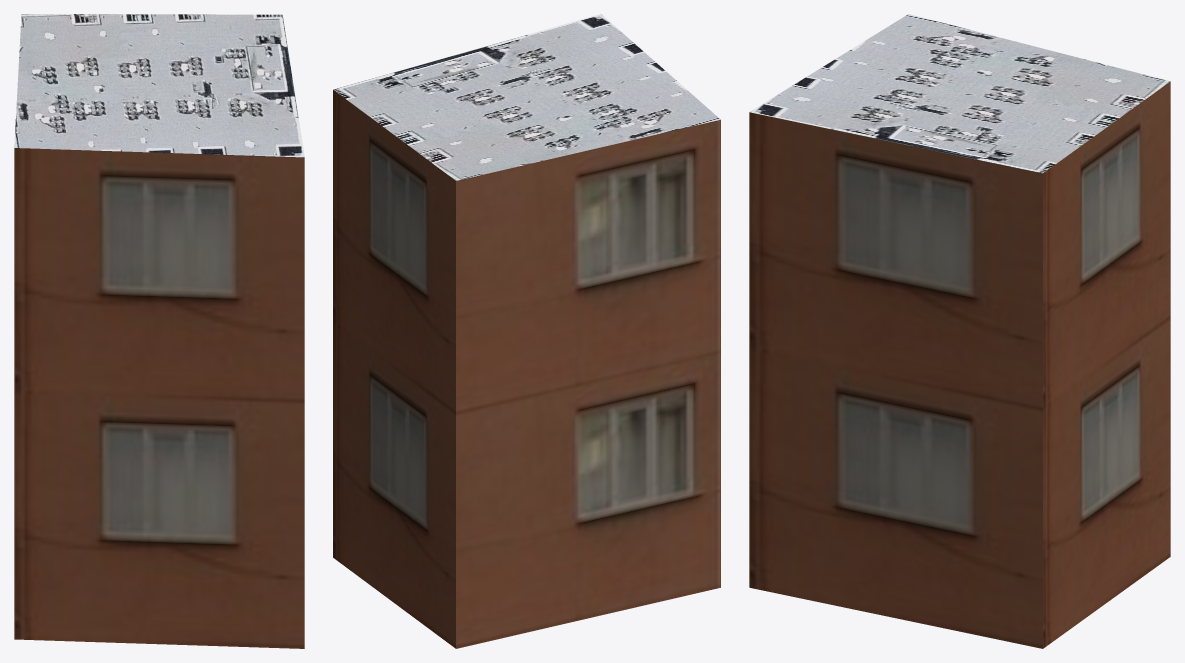
File: ResTex__376.fbx
The picture shows the model from 3 angles, left to right: view 1: azimuth 30°, elevation 25°; view 2: azimuth 150°, elevation 25°; view 3: azimuth 270°, elevation 25°; orthographic projection. The views are drawn at different scales.
Parts seen in each view (by area): view 1: CityEngineMaterial_20_m, CityEngineMaterial_4_m; view 2: CityEngineMaterial_20_m, CityEngineMaterial_4_m; view 3: CityEngineMaterial_20_m, CityEngineMaterial_4_m.
Boxes of the visible parts, x1,y1,x2,y2 form: CityEngineMaterial_20_m: (14, 148, 304, 648); CityEngineMaterial_4_m: (14, 14, 304, 157); CityEngineMaterial_20_m: (333, 90, 720, 648); CityEngineMaterial_4_m: (333, 14, 720, 180); CityEngineMaterial_20_m: (749, 81, 1170, 648); CityEngineMaterial_4_m: (749, 14, 1169, 173).
Bounding box in the file's own units: 4.32 × 6 × 4.82.
Materials: 2 (2 with a texture image).
